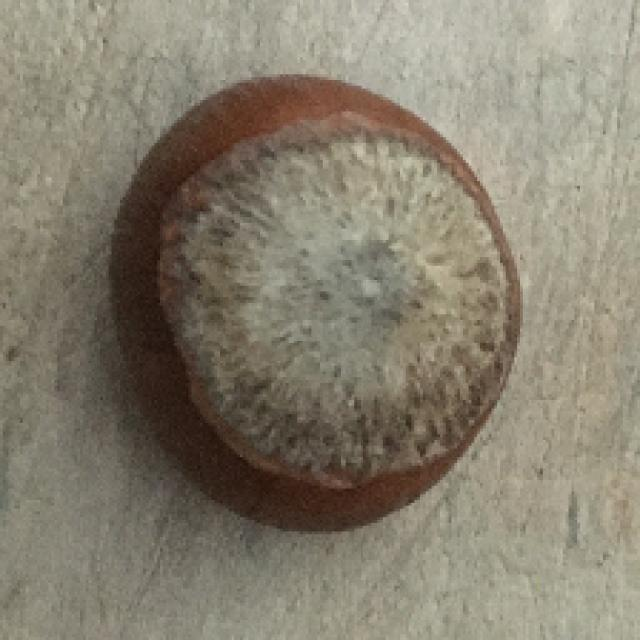qualityHazelnut: (110, 67, 521, 534)
